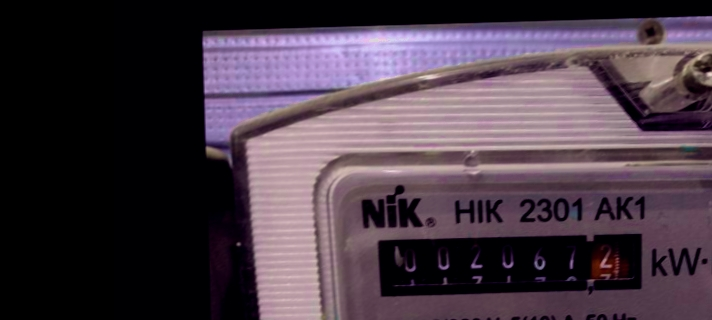0: (401, 245, 420, 275), (498, 240, 517, 269), (435, 242, 453, 272)
2: (597, 241, 616, 270), (468, 241, 486, 271)
6: (531, 243, 550, 272)
7: (564, 242, 581, 272)
screen: (365, 219, 659, 310)
